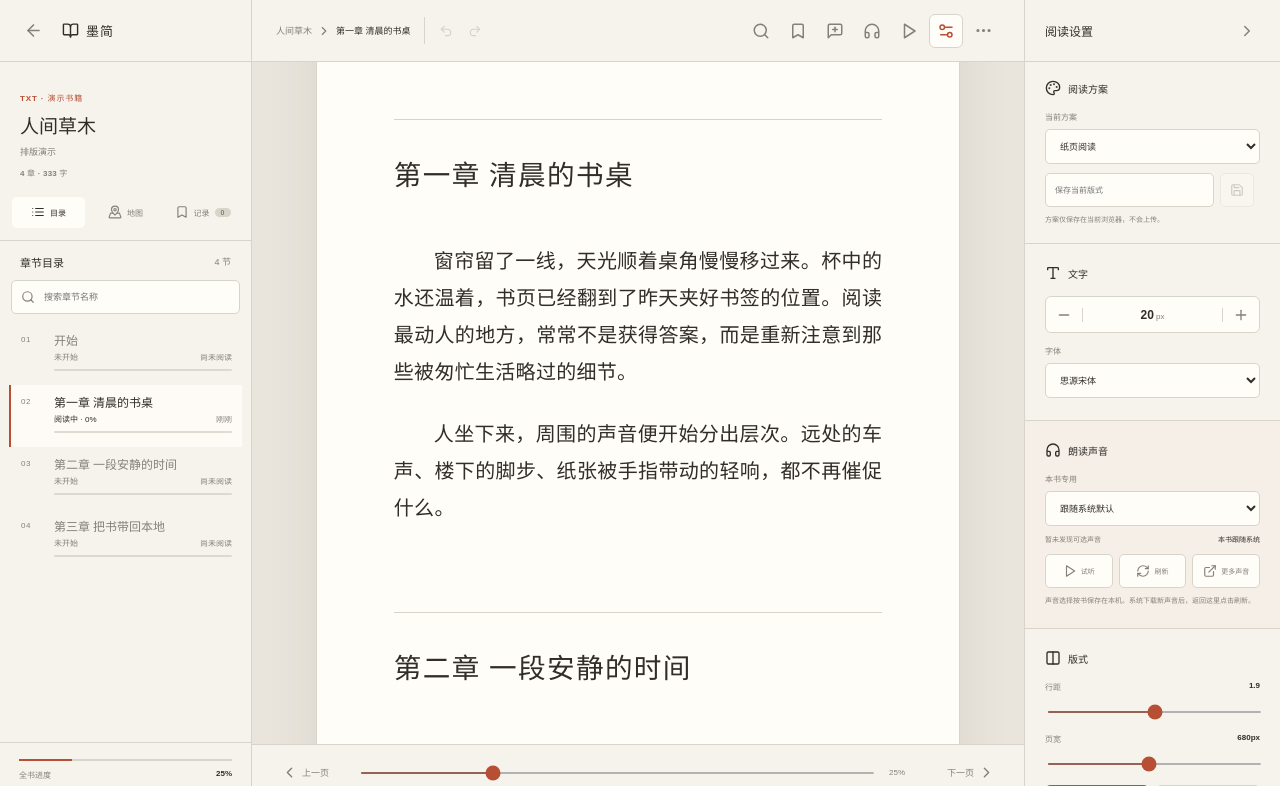
ReaderView interactions › presents local reading statistics and a remaining-time estimate
(page scrolled)
What coordinates should you click on to do the following:
click the button named "更多操作"
I would click on:
 (983, 30)
Its box is [966,14,1000,48].
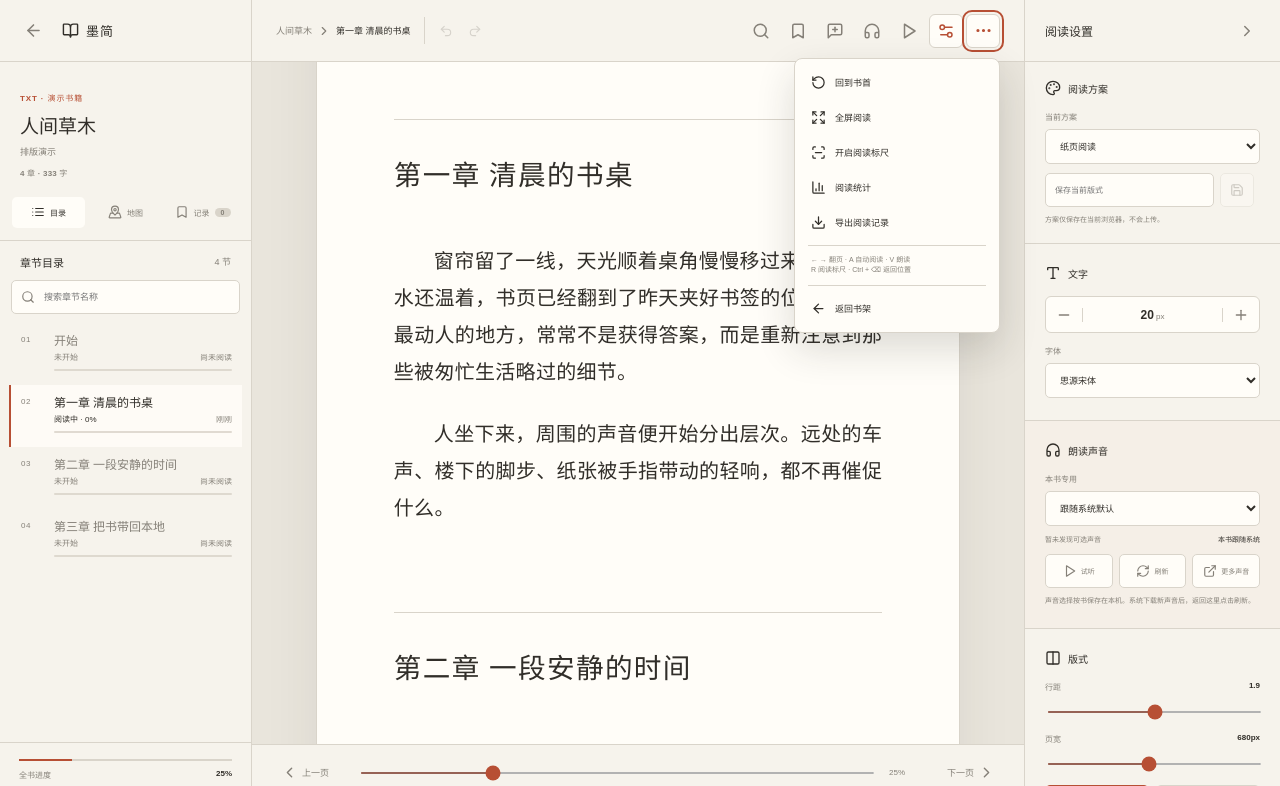
What coordinates should you click on to do the following:
click the menu item "阅读统计"
I would click on:
 (897, 187)
Its box is [801,170,993,204].
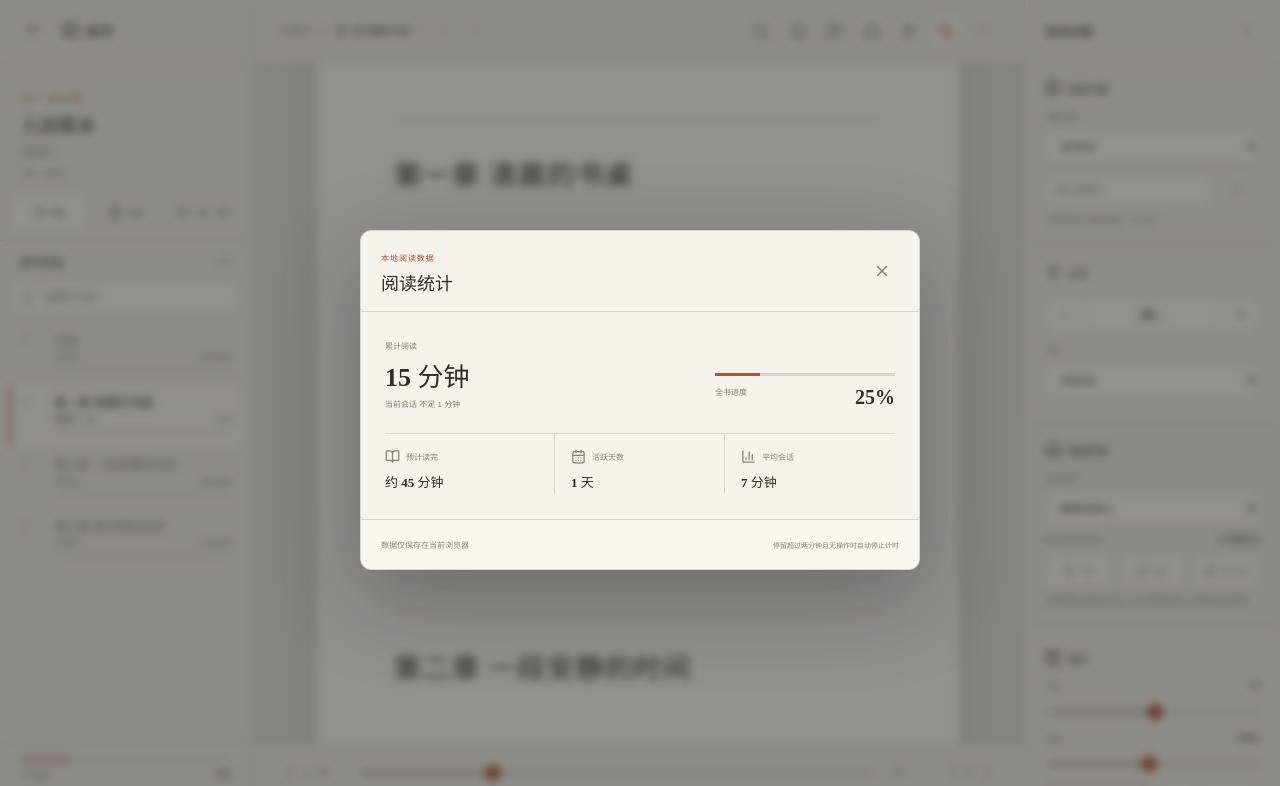
Expected: the text "15 分钟" is shown, [385,363,470,392]
Expected: the text "约 45 分钟" is shown, [385,475,444,490]
Expected: the text "数据仅保存在当前浏览器" is shown, [381,539,469,550]
What coordinates should you click on to do the following:
click the button named "关闭阅读统计"
I would click on:
 (882, 271)
Its box is [865,254,899,288].
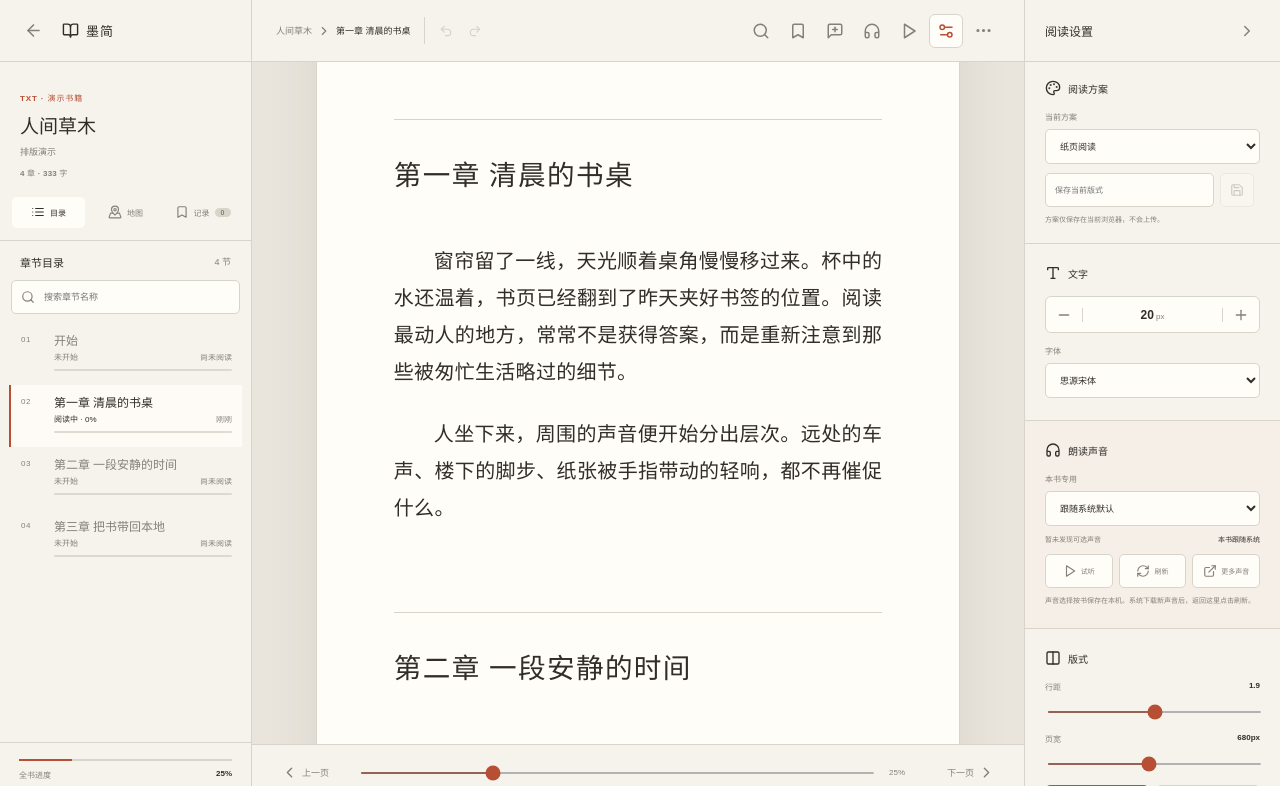
Expected: the heading "阅读统计" is gone
